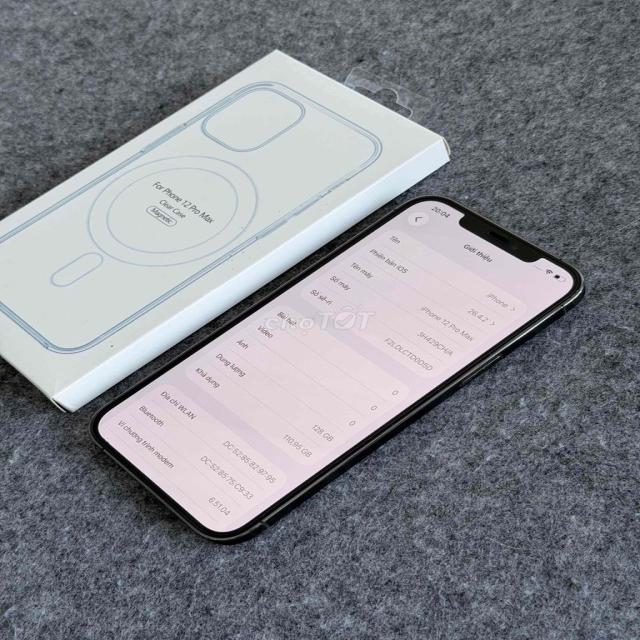gen_12_13: (77, 191, 588, 548)
